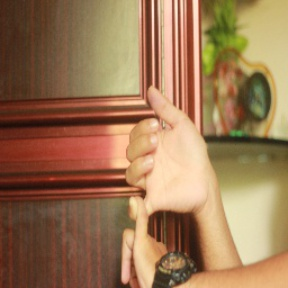S: (109, 84, 210, 288)
